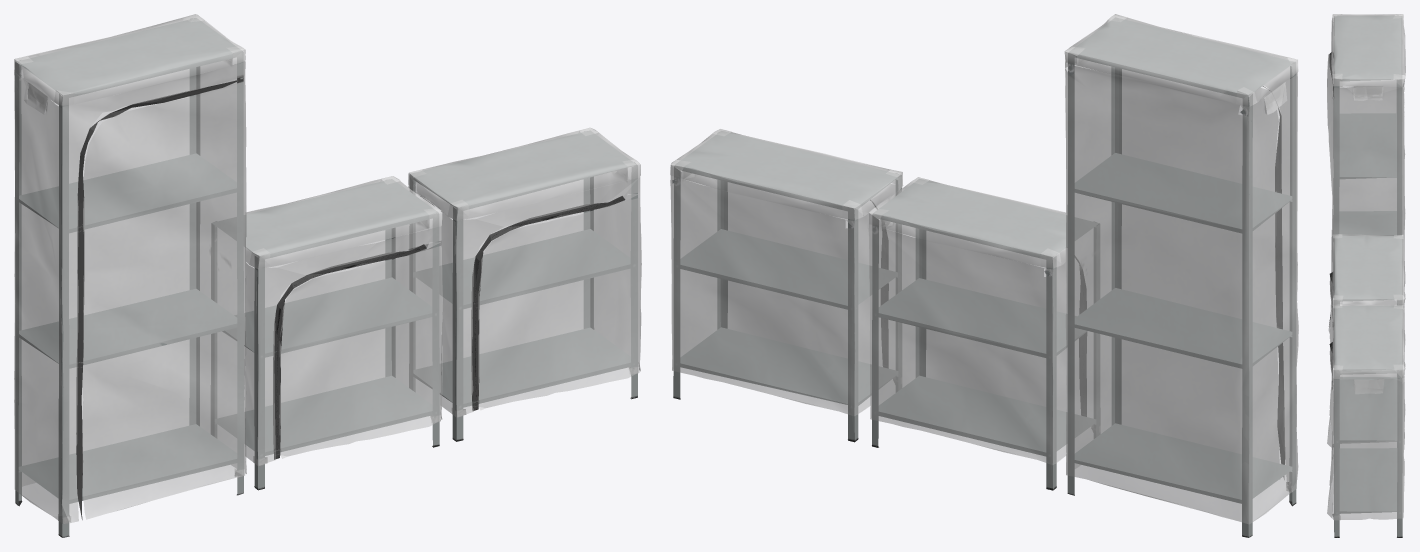
The model's file is 15 - HYLLIS Shelving units with covers - transparent 180x27x74-140 cm.glb.
3 views of the same model, side by side, from view 1: azimuth 30°, elevation 25°; view 2: azimuth 150°, elevation 25°; view 3: azimuth 270°, elevation 25° (orthographic). The views are drawn at different scales.
Parts seen in each view (by area): view 1: Mesh_1, Mesh_0; view 2: Mesh_1, Mesh_0; view 3: Mesh_1, Mesh_0, Mesh_2.
Part boxes in pixels (box(x1,y1,x2,y2)): Mesh_1: box(14, 14, 641, 523); Mesh_0: box(15, 18, 637, 537); Mesh_1: box(670, 14, 1298, 524); Mesh_0: box(672, 17, 1296, 537); Mesh_1: box(1327, 14, 1405, 520); Mesh_0: box(1329, 16, 1402, 537); Mesh_2: box(1354, 86, 1382, 390).
Bounding box in the file's own units: 1.95 × 1.41 × 0.3131.
2 materials, 2 textured.
